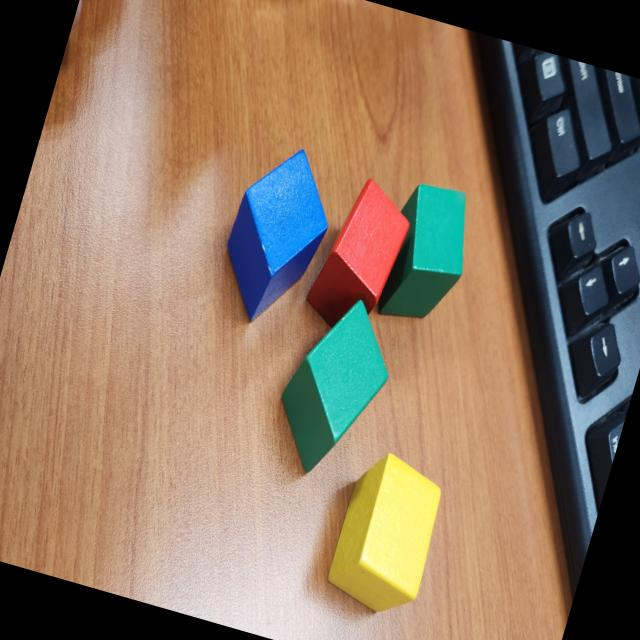blue: (206, 136, 347, 337)
green: (259, 284, 408, 489), (371, 176, 484, 332)
red: (300, 170, 420, 342)
yellow: (320, 443, 456, 622)
